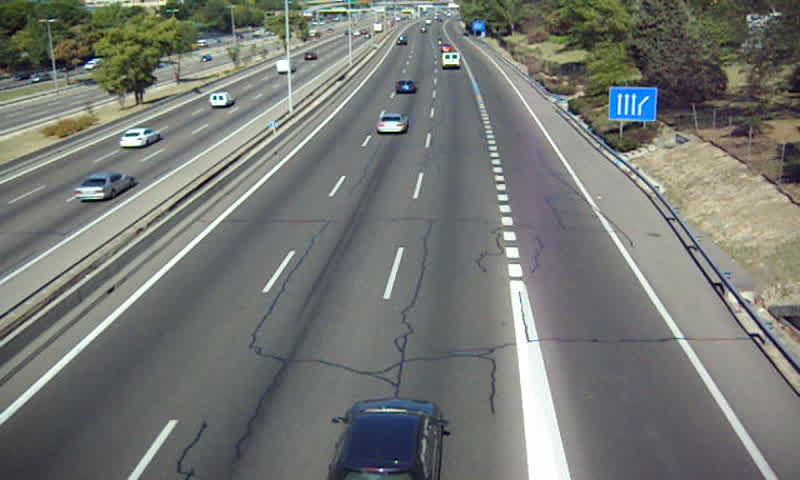car: (328, 399, 441, 480), (376, 112, 408, 135), (396, 78, 416, 95)
van: (443, 51, 460, 69)
